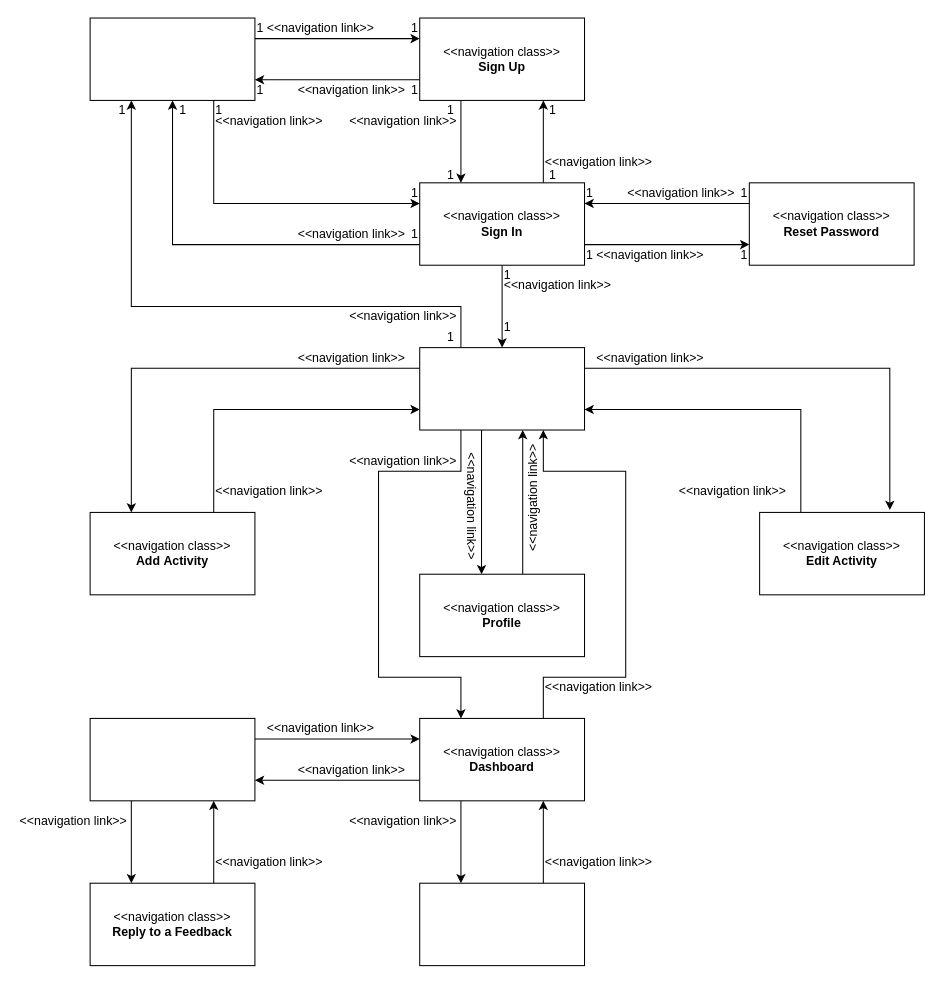
Image size: 942x984. Some labels were removed from this diagram. Each missing label, with the centre of its shape:
"<<navigation class>> Event Manager" belongs at point 502,388.
"<<navigation class>> Feedbacks" belongs at point 172,759.
"<<navigation class>> Index" belongs at point 172,58.
"<<navigation class>> Send Feedback" belongs at point 502,924.
